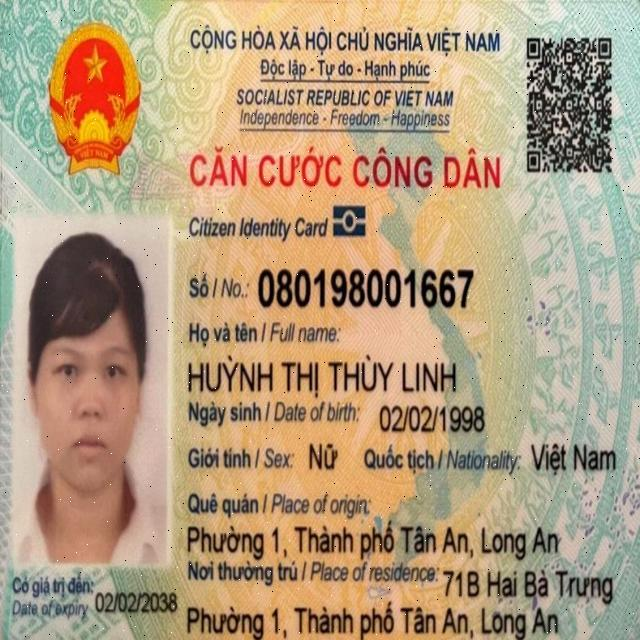current_place: (187, 600, 559, 640), (444, 566, 615, 604)
dob: (379, 400, 487, 438)
expire_date: (95, 588, 179, 616)
gender: (308, 439, 339, 471)
id: (260, 264, 476, 314)
name: (186, 352, 458, 400)
nationality: (529, 441, 617, 477)
origin_place: (185, 523, 559, 563)
qr: (522, 28, 622, 184)
